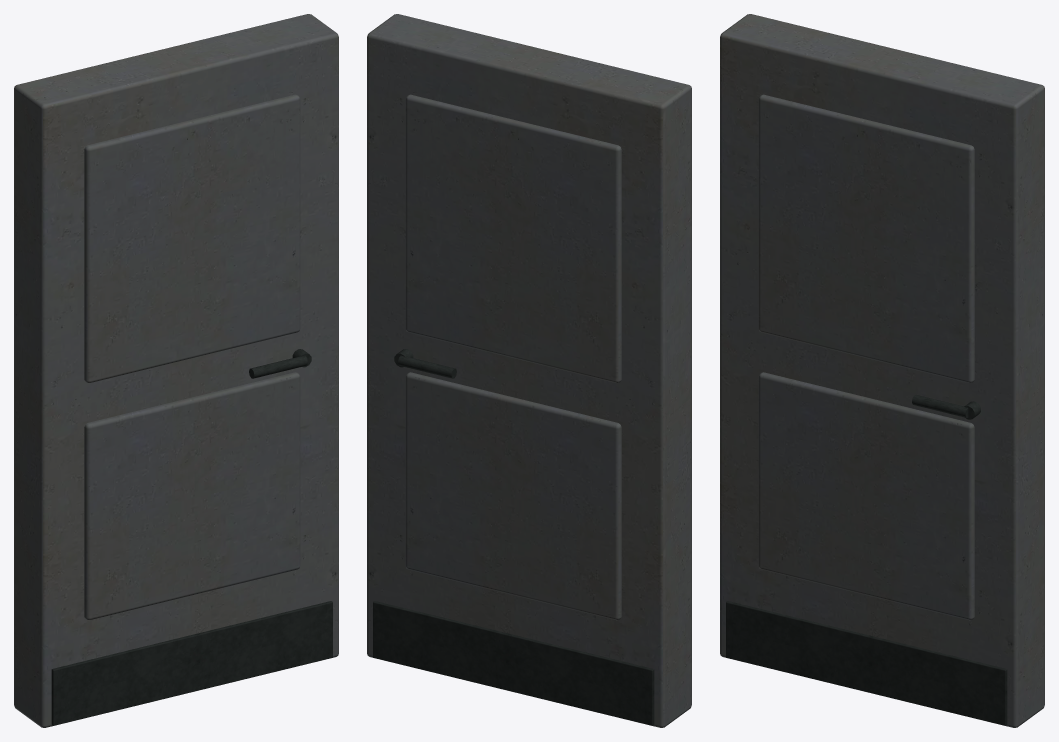
The model's file is door_steel.glb.
3 views of the same model, side by side, from view 1: azimuth 30°, elevation 25°; view 2: azimuth 150°, elevation 25°; view 3: azimuth 330°, elevation 25° (orthographic).
Visible parts, largest first — view 1: prop; view 2: prop; view 3: prop.
Part boxes in pixels (<box>): prop: <box>14,14,338,727</box>; prop: <box>367,14,691,727</box>; prop: <box>720,14,1044,727</box>.
Size of the model in its own units: 1 by 2 by 0.282.
Materials: 2 (2 with a texture image).
